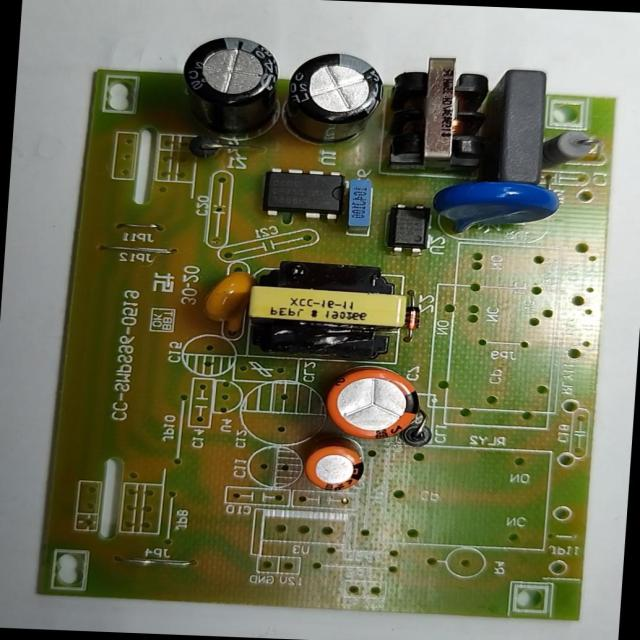Cap1: (316, 362, 422, 442)
Cap2: (299, 436, 368, 494)
Cap3: (275, 45, 390, 151)
Cap4: (176, 29, 286, 142)
MOSFET: (260, 164, 348, 224)
Mov: (427, 176, 565, 241)
Resistor: (536, 124, 602, 178)
Transformer: (217, 257, 417, 365)
